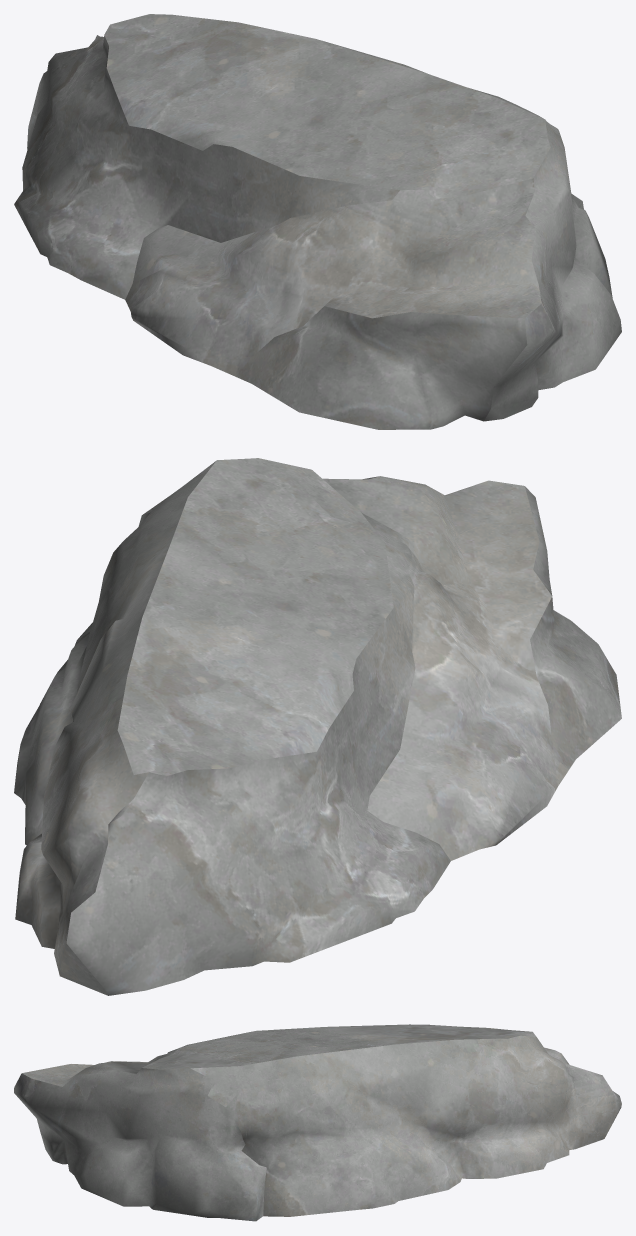
Rendered from SM_Com_Roc_36AS.fbx.
3 renders of one model, top to bottom at view 1: azimuth 30°, elevation 25°; view 2: azimuth 150°, elevation 25°; view 3: azimuth 270°, elevation 25°, orthographic. The views are drawn at different scales.
Parts seen in each view (by area): view 1: SM_Com_Roc_36AS.mo; view 2: SM_Com_Roc_36AS.mo; view 3: SM_Com_Roc_36AS.mo.
Part boxes in pixels (x1,y1,x2,y2): SM_Com_Roc_36AS.mo: (14, 14, 621, 429); SM_Com_Roc_36AS.mo: (14, 458, 621, 995); SM_Com_Roc_36AS.mo: (14, 1024, 621, 1221).
Size of the model in its own units: 2.9 by 1.25 by 5.26.
